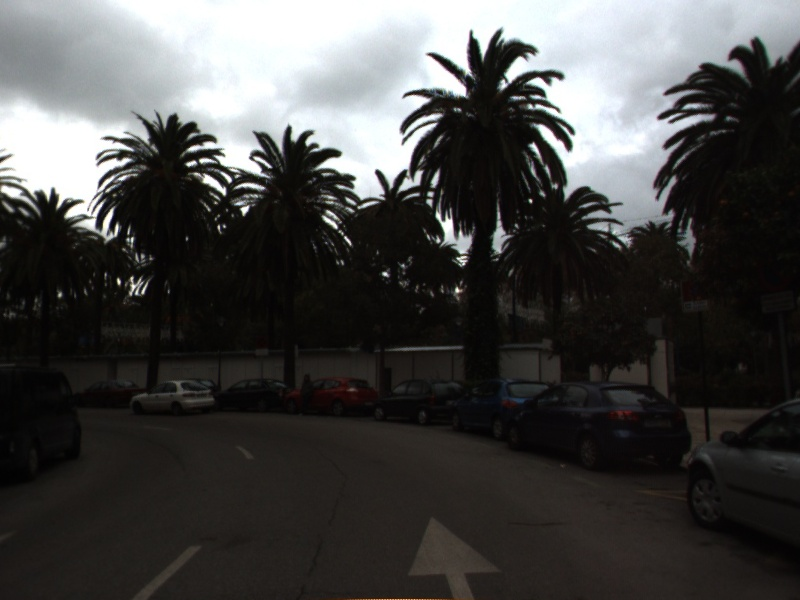STRAIGHT: (403, 512, 508, 600)
